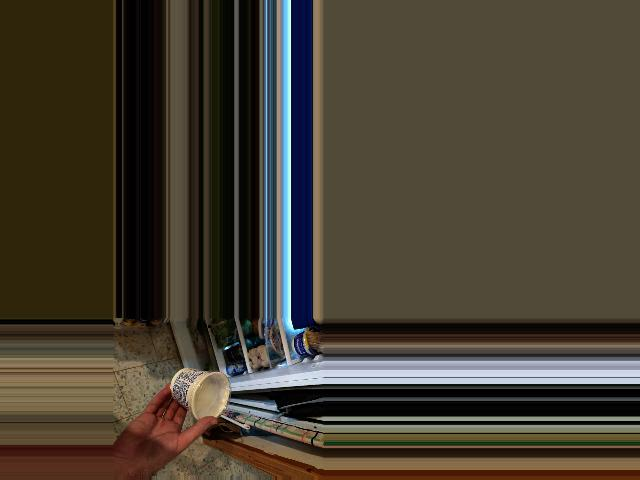cotage: (170, 372, 229, 418)
